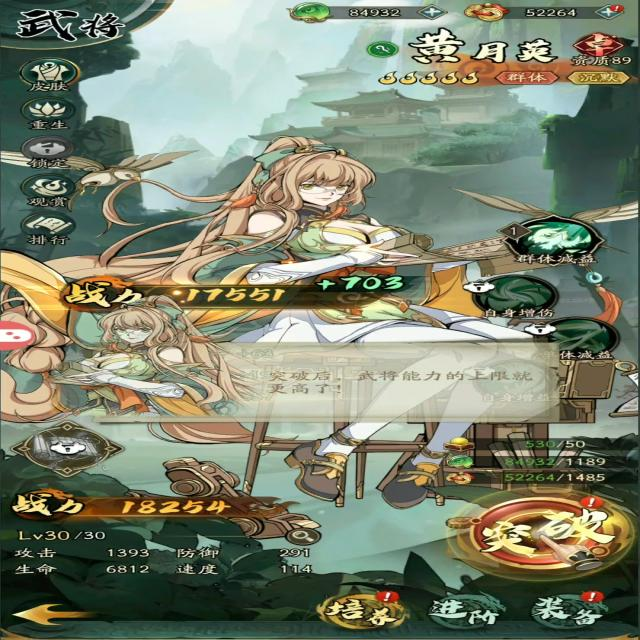hint-guide: (29, 306, 580, 431), (488, 507, 600, 563)
hint-reddot: (571, 490, 610, 511), (581, 588, 610, 604), (381, 586, 399, 606), (607, 5, 625, 13)
operation-HeroAttribute: (284, 522, 336, 550)
operation-HeroLock: (14, 137, 94, 168)
operation-HeroSkin: (13, 55, 98, 94)
operation-advanced: (422, 587, 503, 631)
operation-back: (3, 599, 98, 629)
operation-breakthrough: (458, 491, 624, 580)
operation-equipment: (524, 589, 624, 629)
operation-heroRank: (12, 214, 89, 248)
operation-heroRespawn: (19, 97, 84, 129)
operation-train: (316, 584, 407, 634)
operation-watchHero: (18, 173, 78, 206)
skill-multi2-off: (514, 311, 626, 363)
skill-multi3-off: (454, 274, 572, 325)
skill-multi4-on: (492, 209, 600, 270)
skill-shenbing-off: (13, 418, 137, 479)
